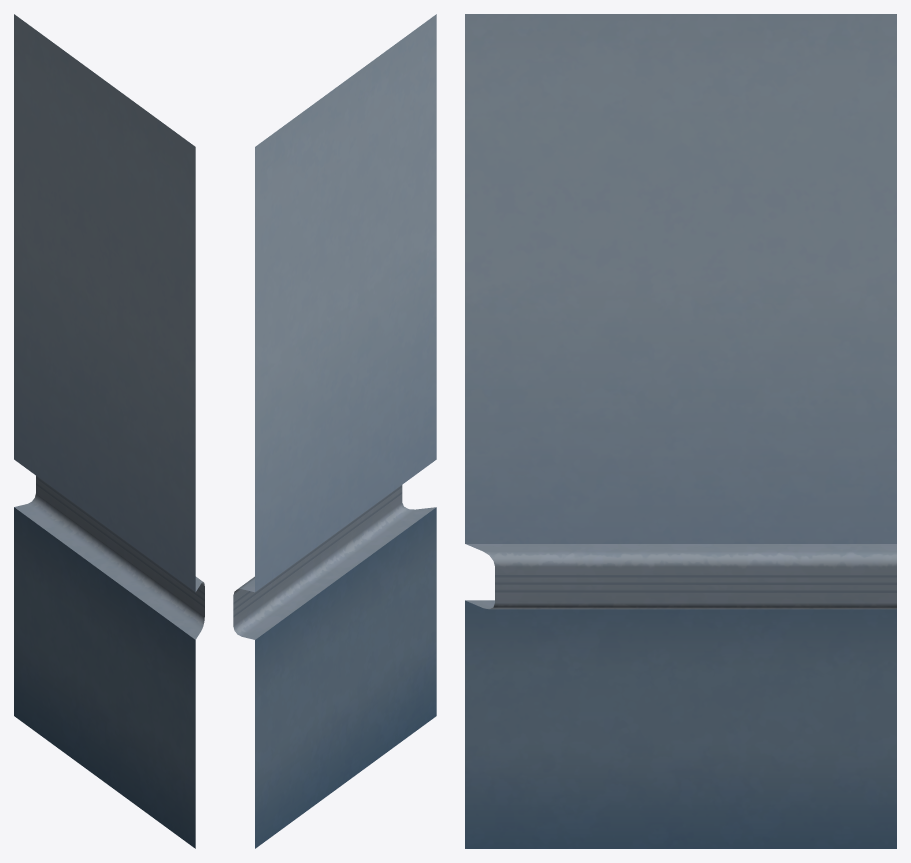
File: Lvl2_Wall_Corner_In_1.fbx
The picture shows the model from 3 angles, left to right: view 1: azimuth 30°, elevation 25°; view 2: azimuth 150°, elevation 25°; view 3: azimuth 270°, elevation 25°; orthographic projection. The views are drawn at different scales.
Visible parts, largest first — view 1: Lvl2_Wall_Corner_In_1; view 2: Lvl2_Wall_Corner_In_1; view 3: Lvl2_Wall_Corner_In_1.
Part boxes in pixels (x1,y1,x2,y2): Lvl2_Wall_Corner_In_1: (14, 14, 204, 848); Lvl2_Wall_Corner_In_1: (233, 14, 436, 848); Lvl2_Wall_Corner_In_1: (465, 14, 896, 848).
Bounding box in the file's own units: 13.01 × 400 × 188.
1 material, 1 textured.
